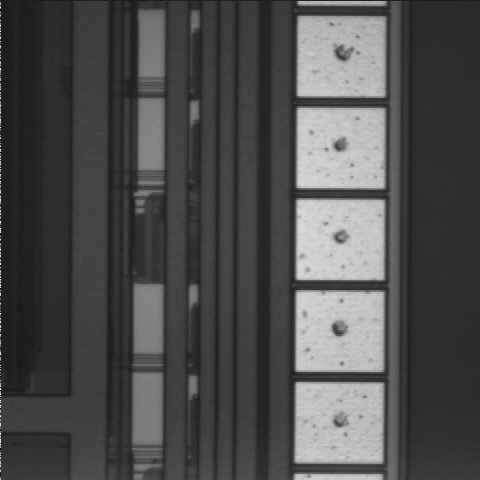pad: (297, 108, 384, 188), (297, 200, 384, 280), (296, 292, 383, 372), (295, 383, 383, 462), (298, 17, 384, 96)
